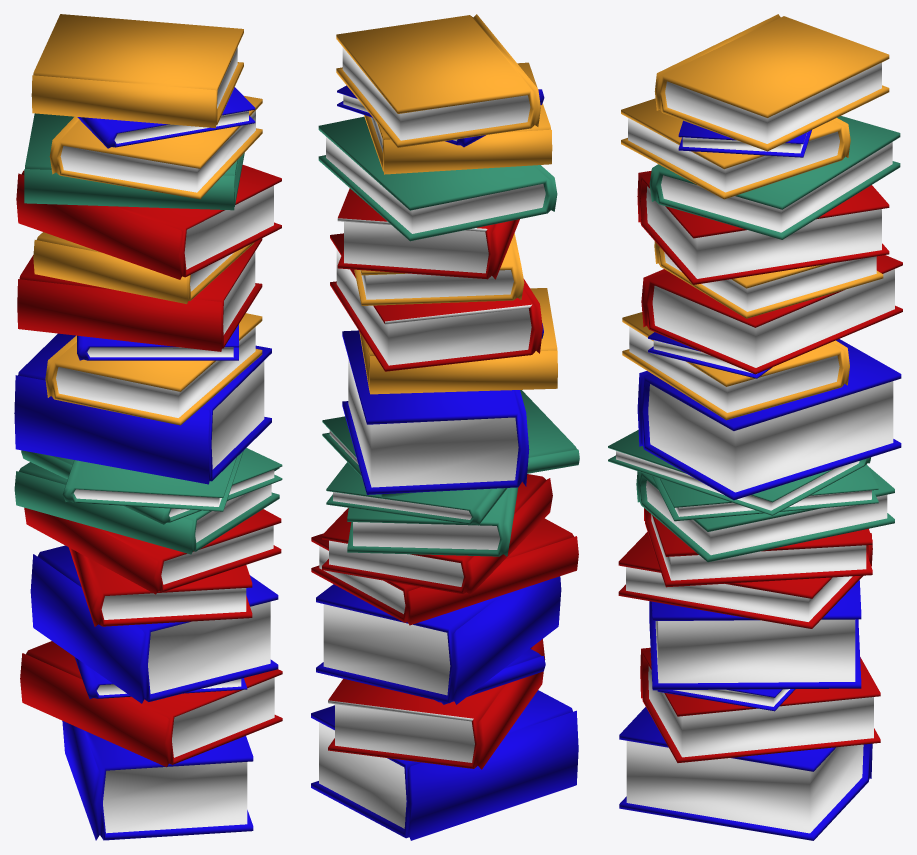
File: Book_nib_v01.fbx
3 renders of one model, left to right at view 1: azimuth 30°, elevation 25°; view 2: azimuth 150°, elevation 25°; view 3: azimuth 270°, elevation 25°, orthographic.
Parts seen in each view (by area): view 1: Bookstack; view 2: Bookstack; view 3: Bookstack.
Boxes of the visible parts, box(x1,y1,x2,y2) form: Bookstack: box(14, 14, 282, 840); Bookstack: box(311, 14, 579, 840); Bookstack: box(608, 14, 902, 840).
Size of the model in its own units: 42.09 by 127 by 46.67.
